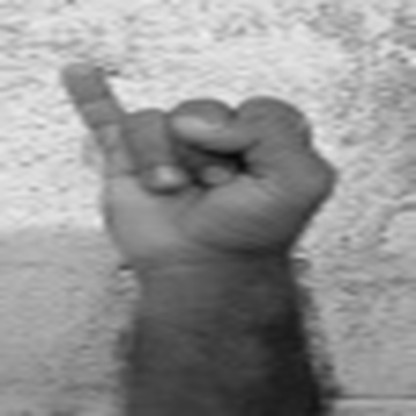i: (46, 60, 356, 282)
